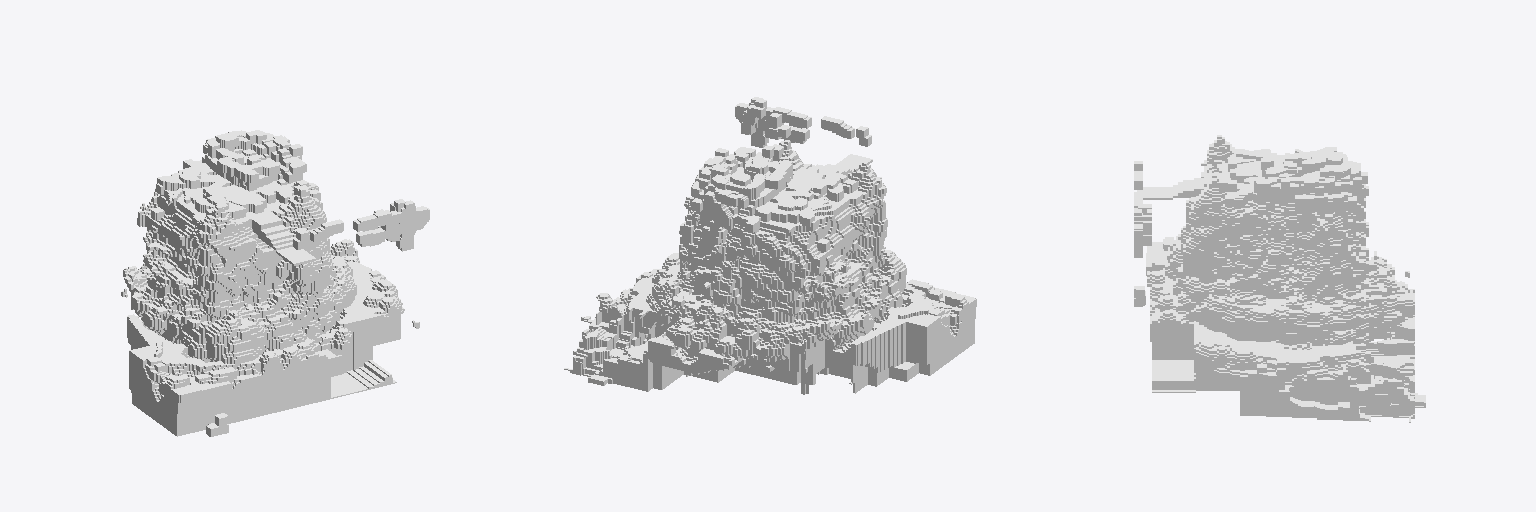
The model's file is Lava_stuff-2.obj.
3 renders of one model, left to right at view 1: azimuth 30°, elevation 25°; view 2: azimuth 150°, elevation 25°; view 3: azimuth 270°, elevation 25°, orthographic.
Visible parts, largest first — view 1: object 1; view 2: object 1; view 3: object 1.
Part boxes in pixels (bbox=[...]): object 1: bbox=[121, 130, 429, 436]; object 1: bbox=[564, 97, 976, 394]; object 1: bbox=[1134, 135, 1425, 422].
Size of the model in its own units: 25.6 by 17 by 22.6.